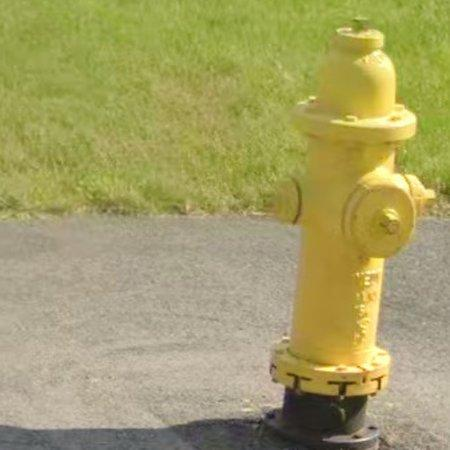a fire hydrant: (267, 20, 435, 450)
